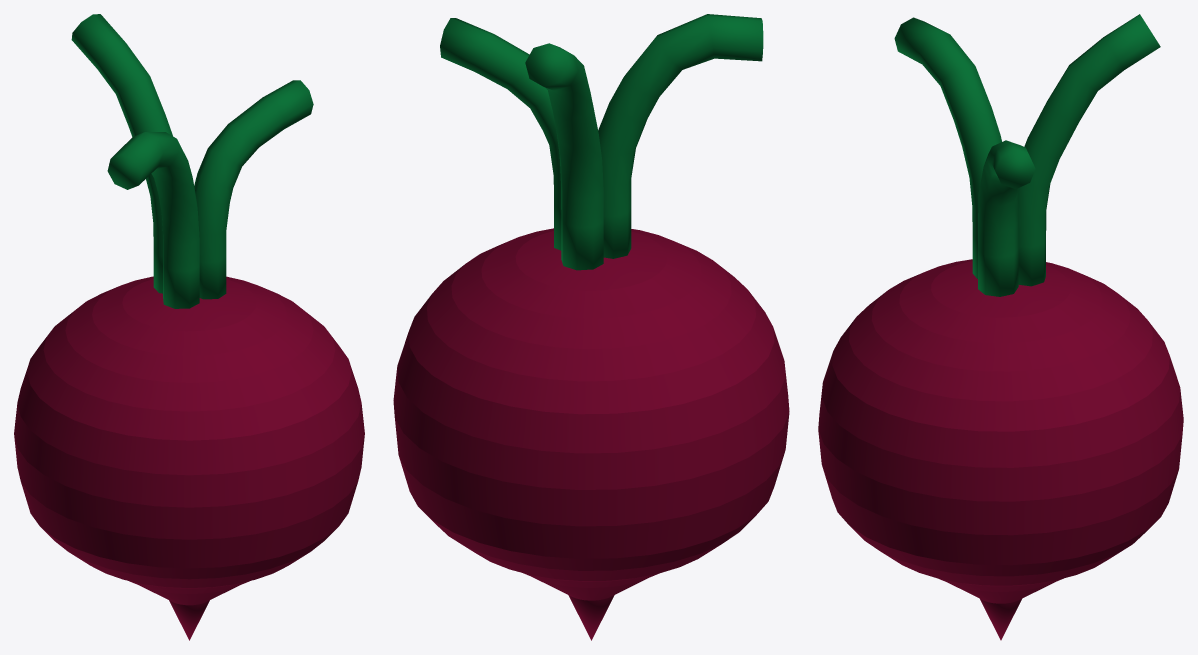
The picture shows the model from 3 angles, left to right: view 1: azimuth 30°, elevation 25°; view 2: azimuth 150°, elevation 25°; view 3: azimuth 270°, elevation 25°; orthographic projection. The views are drawn at different scales.
Visible parts, largest first — view 1: tiancai; view 2: tiancai; view 3: tiancai.
Part boxes in pixels (x1=…): tiancai: x1=14, y1=14, x2=364, y2=640; tiancai: x1=393, y1=14, x2=789, y2=640; tiancai: x1=818, y1=14, x2=1183, y2=640.
Bounding box in the file's own units: 1.8 × 3.31 × 1.8.
